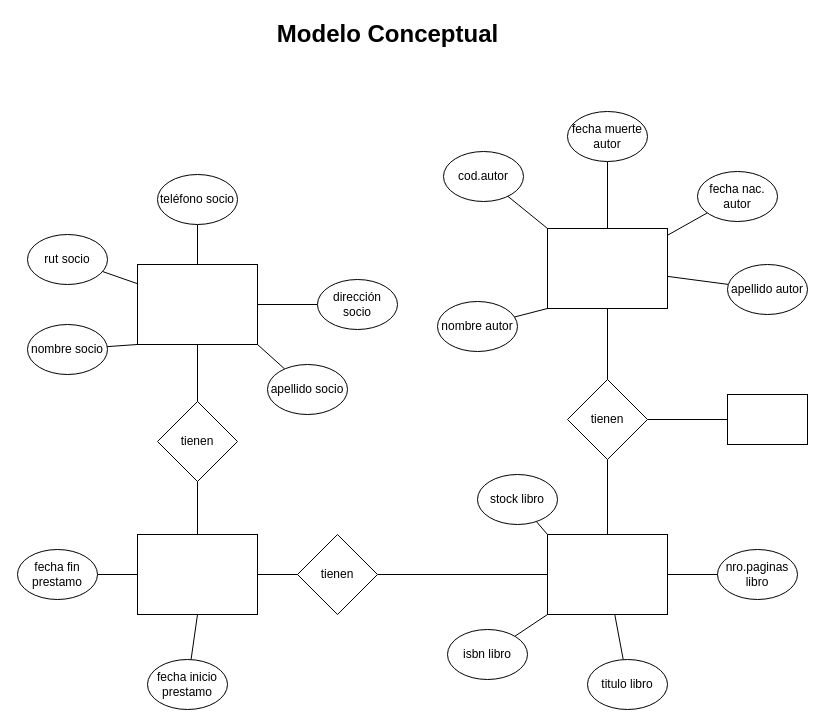
This 825x727 diagram has some shape labels left out. The centre of each missing label's shape, as x and y in pixels:
"autores" goes at (607,268).
"libros" goes at (607,574).
"prestamos" goes at (197,574).
"socios" goes at (197,304).
"tipo autor" goes at (767,419).
